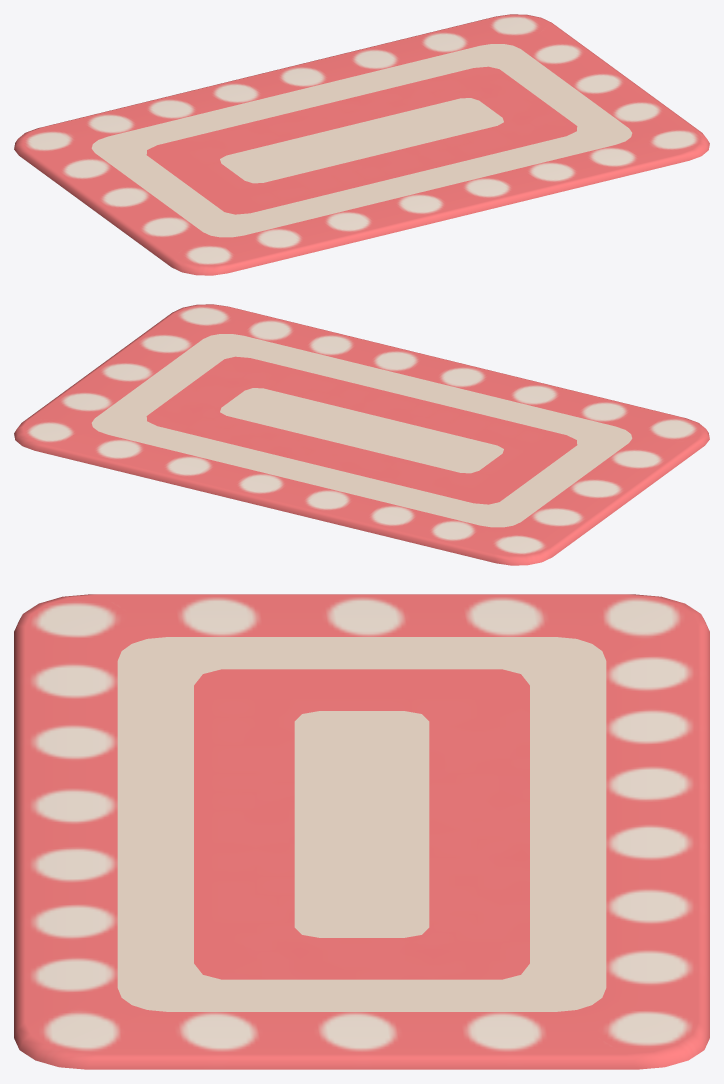
The model's file is Homestead_cm_8.fbx.
3 renders of one model, top to bottom at view 1: azimuth 30°, elevation 25°; view 2: azimuth 150°, elevation 25°; view 3: azimuth 270°, elevation 25°, orthographic. The views are drawn at different scales.
Visible parts, largest first — view 1: Homestead_cm_8; view 2: Homestead_cm_8; view 3: Homestead_cm_8.
Boxes of the visible parts, left/top/right/bottom form: Homestead_cm_8: left=14, top=14, right=709, bottom=275; Homestead_cm_8: left=14, top=304, right=709, bottom=565; Homestead_cm_8: left=14, top=594, right=709, bottom=1069.
Size of the model in its own units: 396 by 4.14 by 248.
